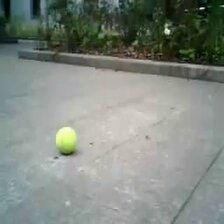tennis: (55, 128, 78, 153)
